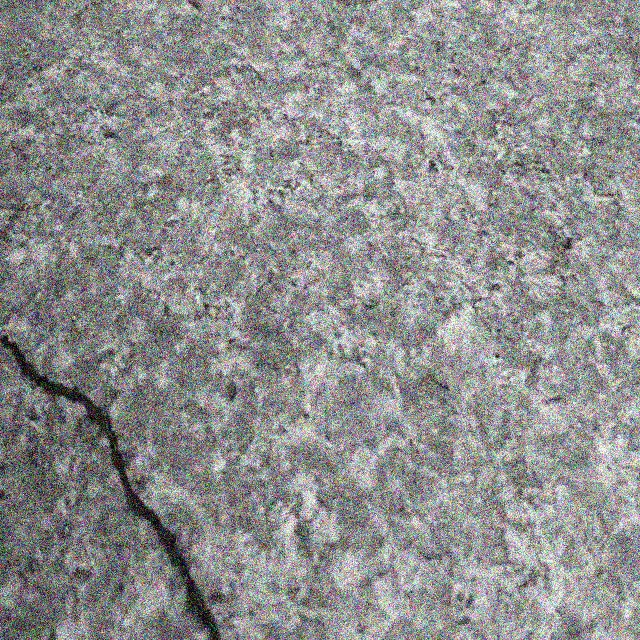SurfaceCrack: (1, 208, 305, 640)
